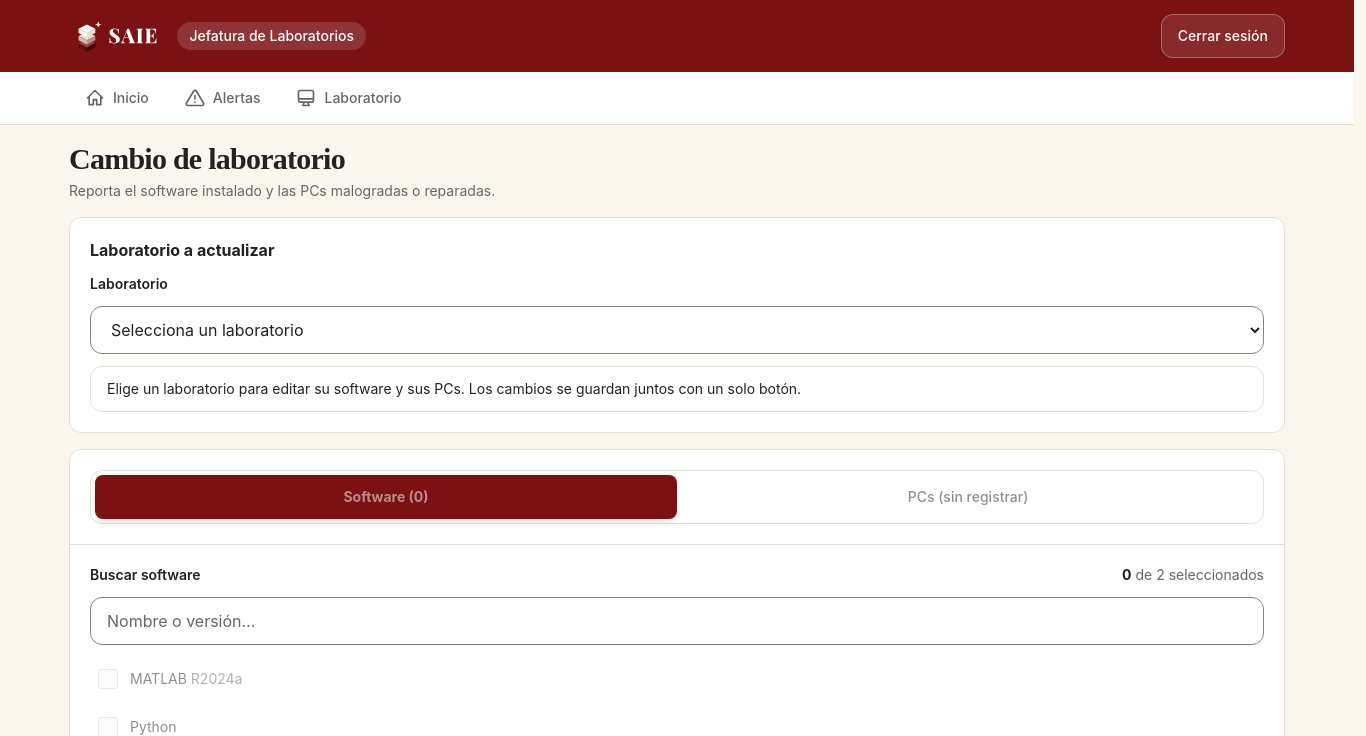
Test case: Formulario de cambio de laboratorio (Issue 4.19) › guarda la selección de software con el botón único
Select "LAB-301 — A, piso 3" in the dropdown labelled "Laboratorio" at coordinates (677, 330), box [90, 306, 1264, 354]
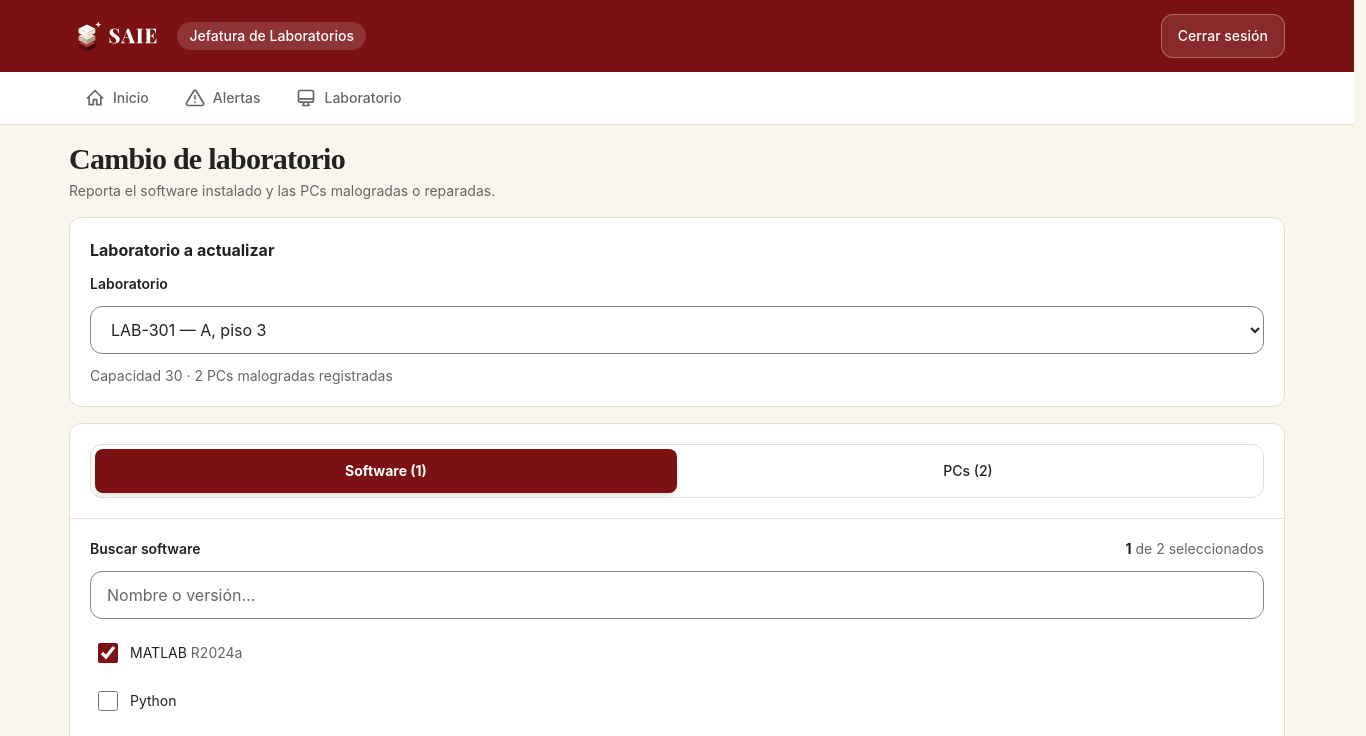
Click the checkbox labelled "Python" at coordinates (108, 701), box [98, 691, 118, 711]
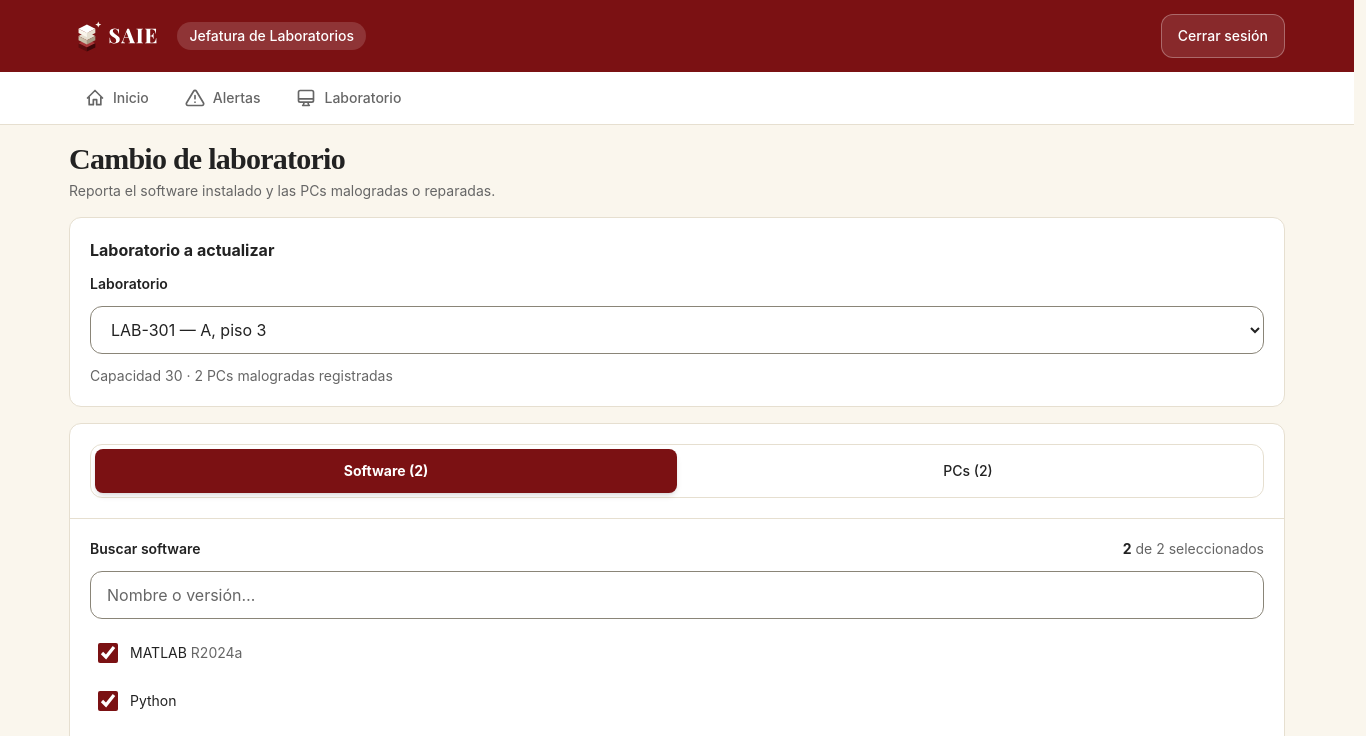
Click the checkbox labelled "MATLAB R2024a" at coordinates (108, 653), box [98, 643, 118, 663]
(page scrolled)
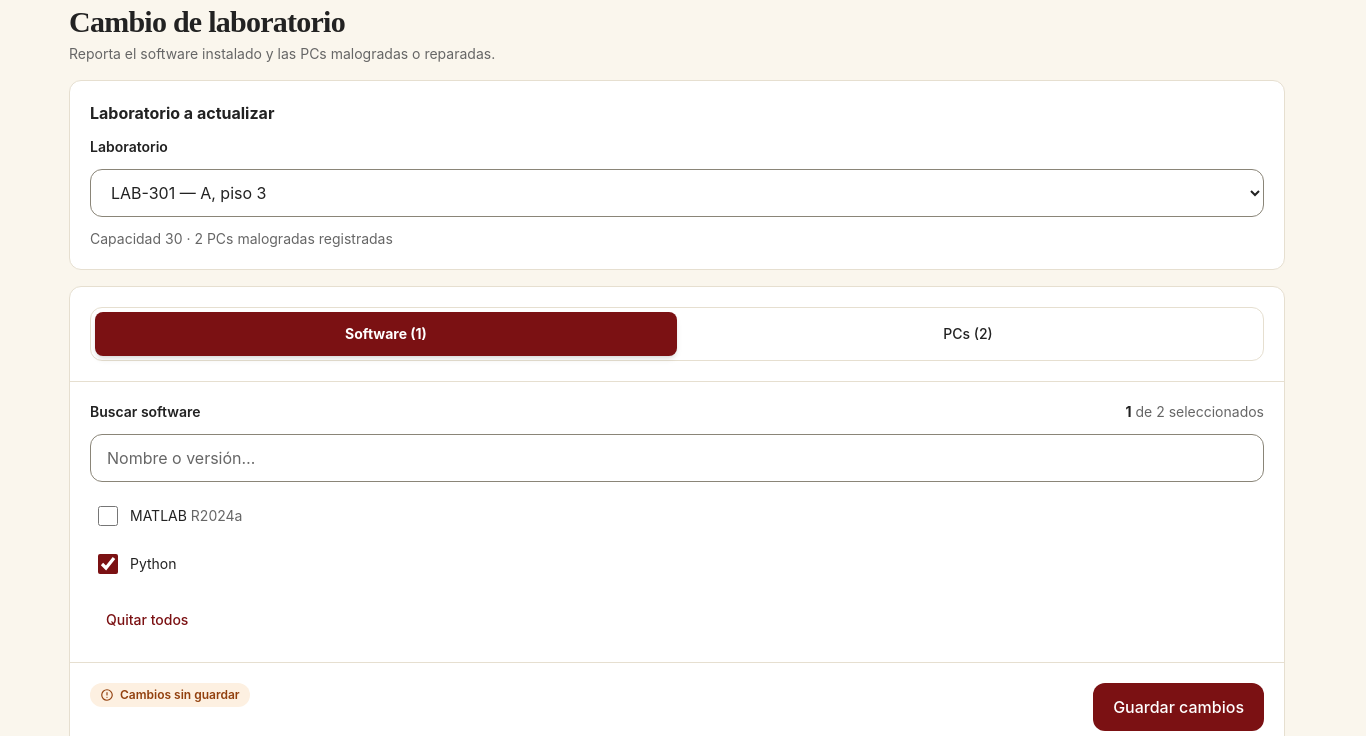
Check: the text "Cambios sin guardar" is shown, box [120, 687, 240, 703]
Click the button "Guardar cambios" at coordinates (1179, 707), box [1093, 683, 1264, 731]
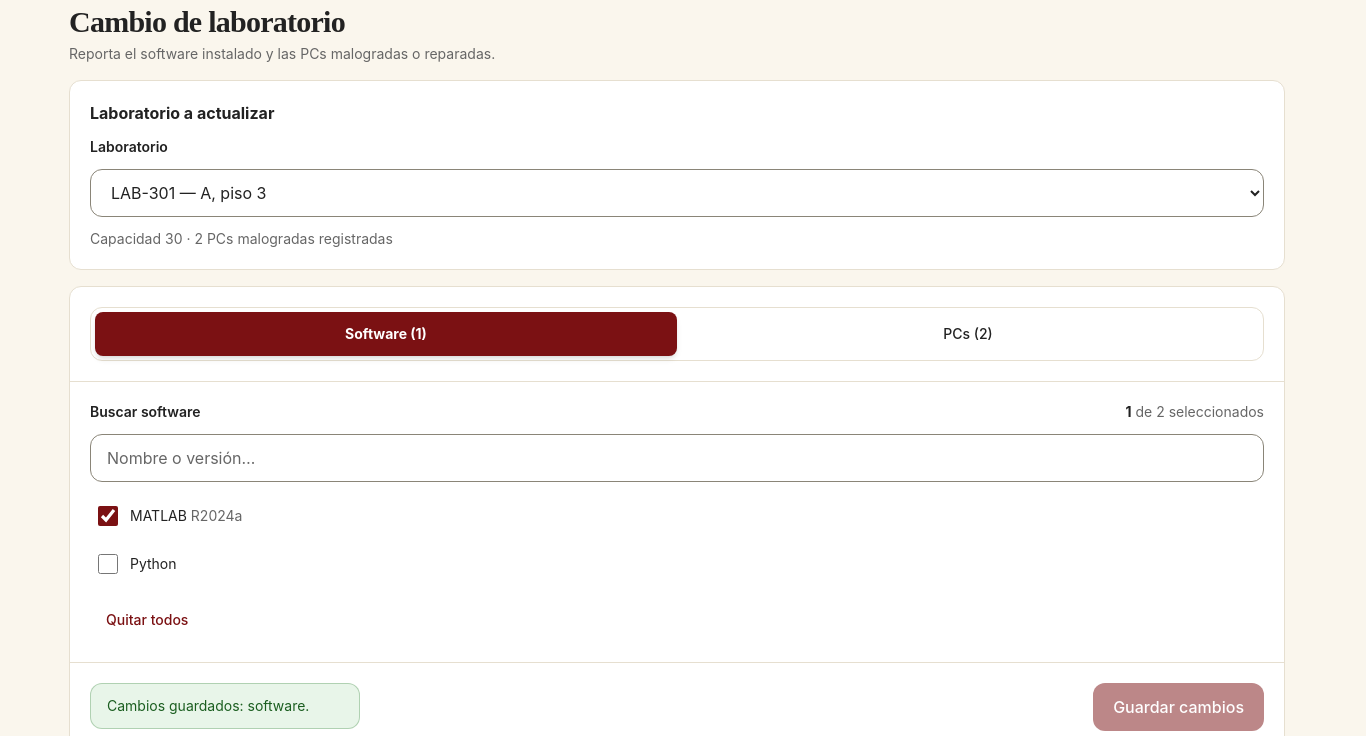
Check: the text "Cambios guardados: software." is shown, box [90, 683, 360, 729]
